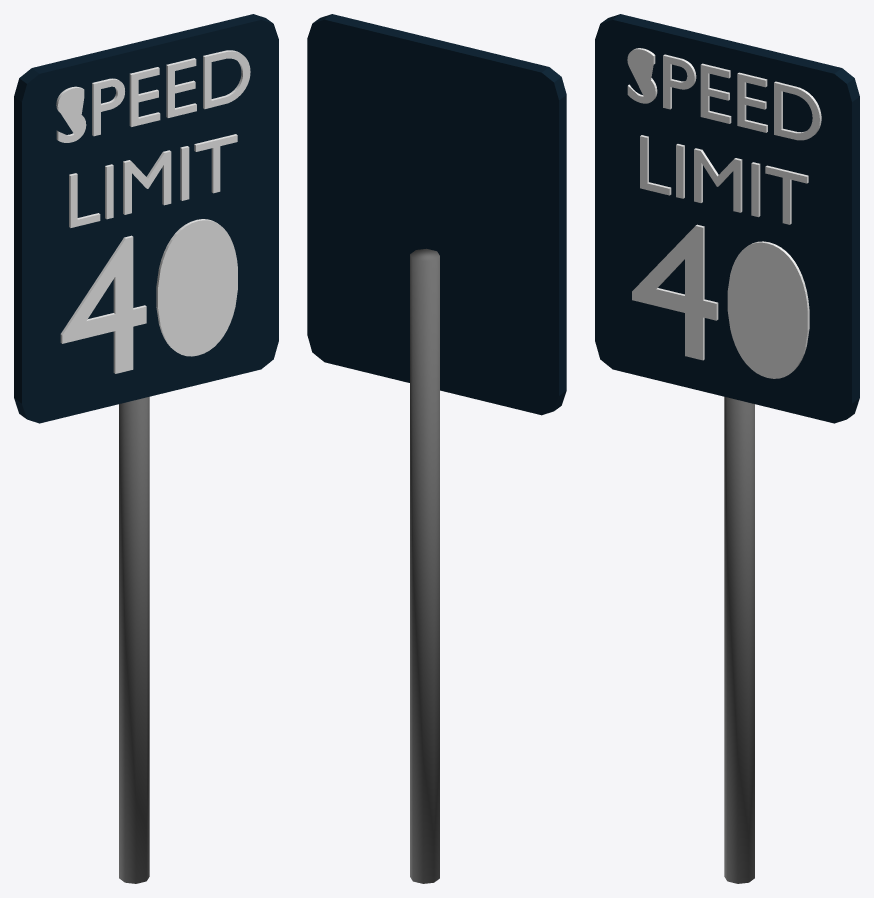
Rendered from Prop_StreetSign_Speed_40.fbx.
The picture shows the model from 3 angles, left to right: view 1: azimuth 30°, elevation 25°; view 2: azimuth 150°, elevation 25°; view 3: azimuth 330°, elevation 25°; orthographic projection. The views are drawn at different scales.
Visible parts, largest first — view 1: Prop_StreetSign_Speed_40; view 2: Prop_StreetSign_Speed_40; view 3: Prop_StreetSign_Speed_40.
Boxes of the visible parts, bbox=[...] form: Prop_StreetSign_Speed_40: bbox=[14, 14, 278, 883]; Prop_StreetSign_Speed_40: bbox=[307, 14, 566, 883]; Prop_StreetSign_Speed_40: bbox=[595, 14, 859, 883].
Size of the model in its own units: 140 by 438 by 23.65.
